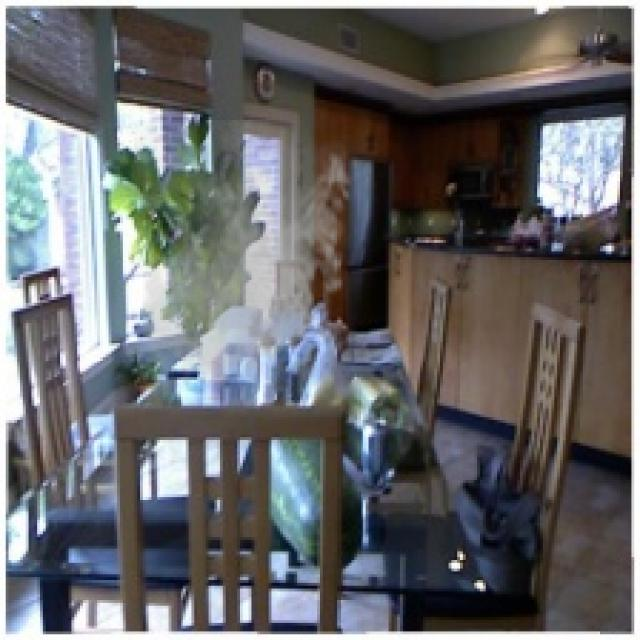smoke: (134, 120, 357, 400)
